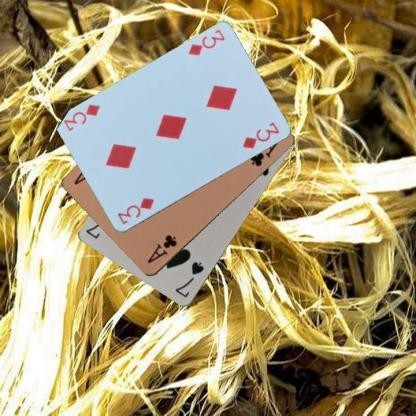3d: (115, 195, 156, 226), (186, 27, 226, 57)
7s: (172, 260, 205, 300)
Ac: (144, 232, 178, 265)
